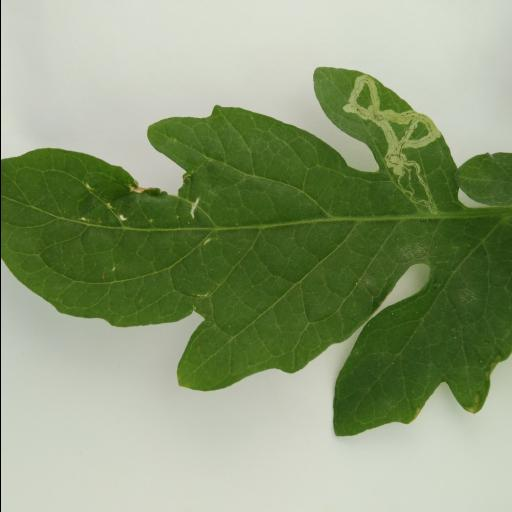disease_tomato: (2, 60, 512, 436)
